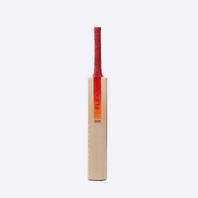bottom left: (83, 172, 95, 185)
bottom right: (101, 171, 116, 187)
top left: (82, 74, 95, 88)
top right: (101, 74, 115, 90)
